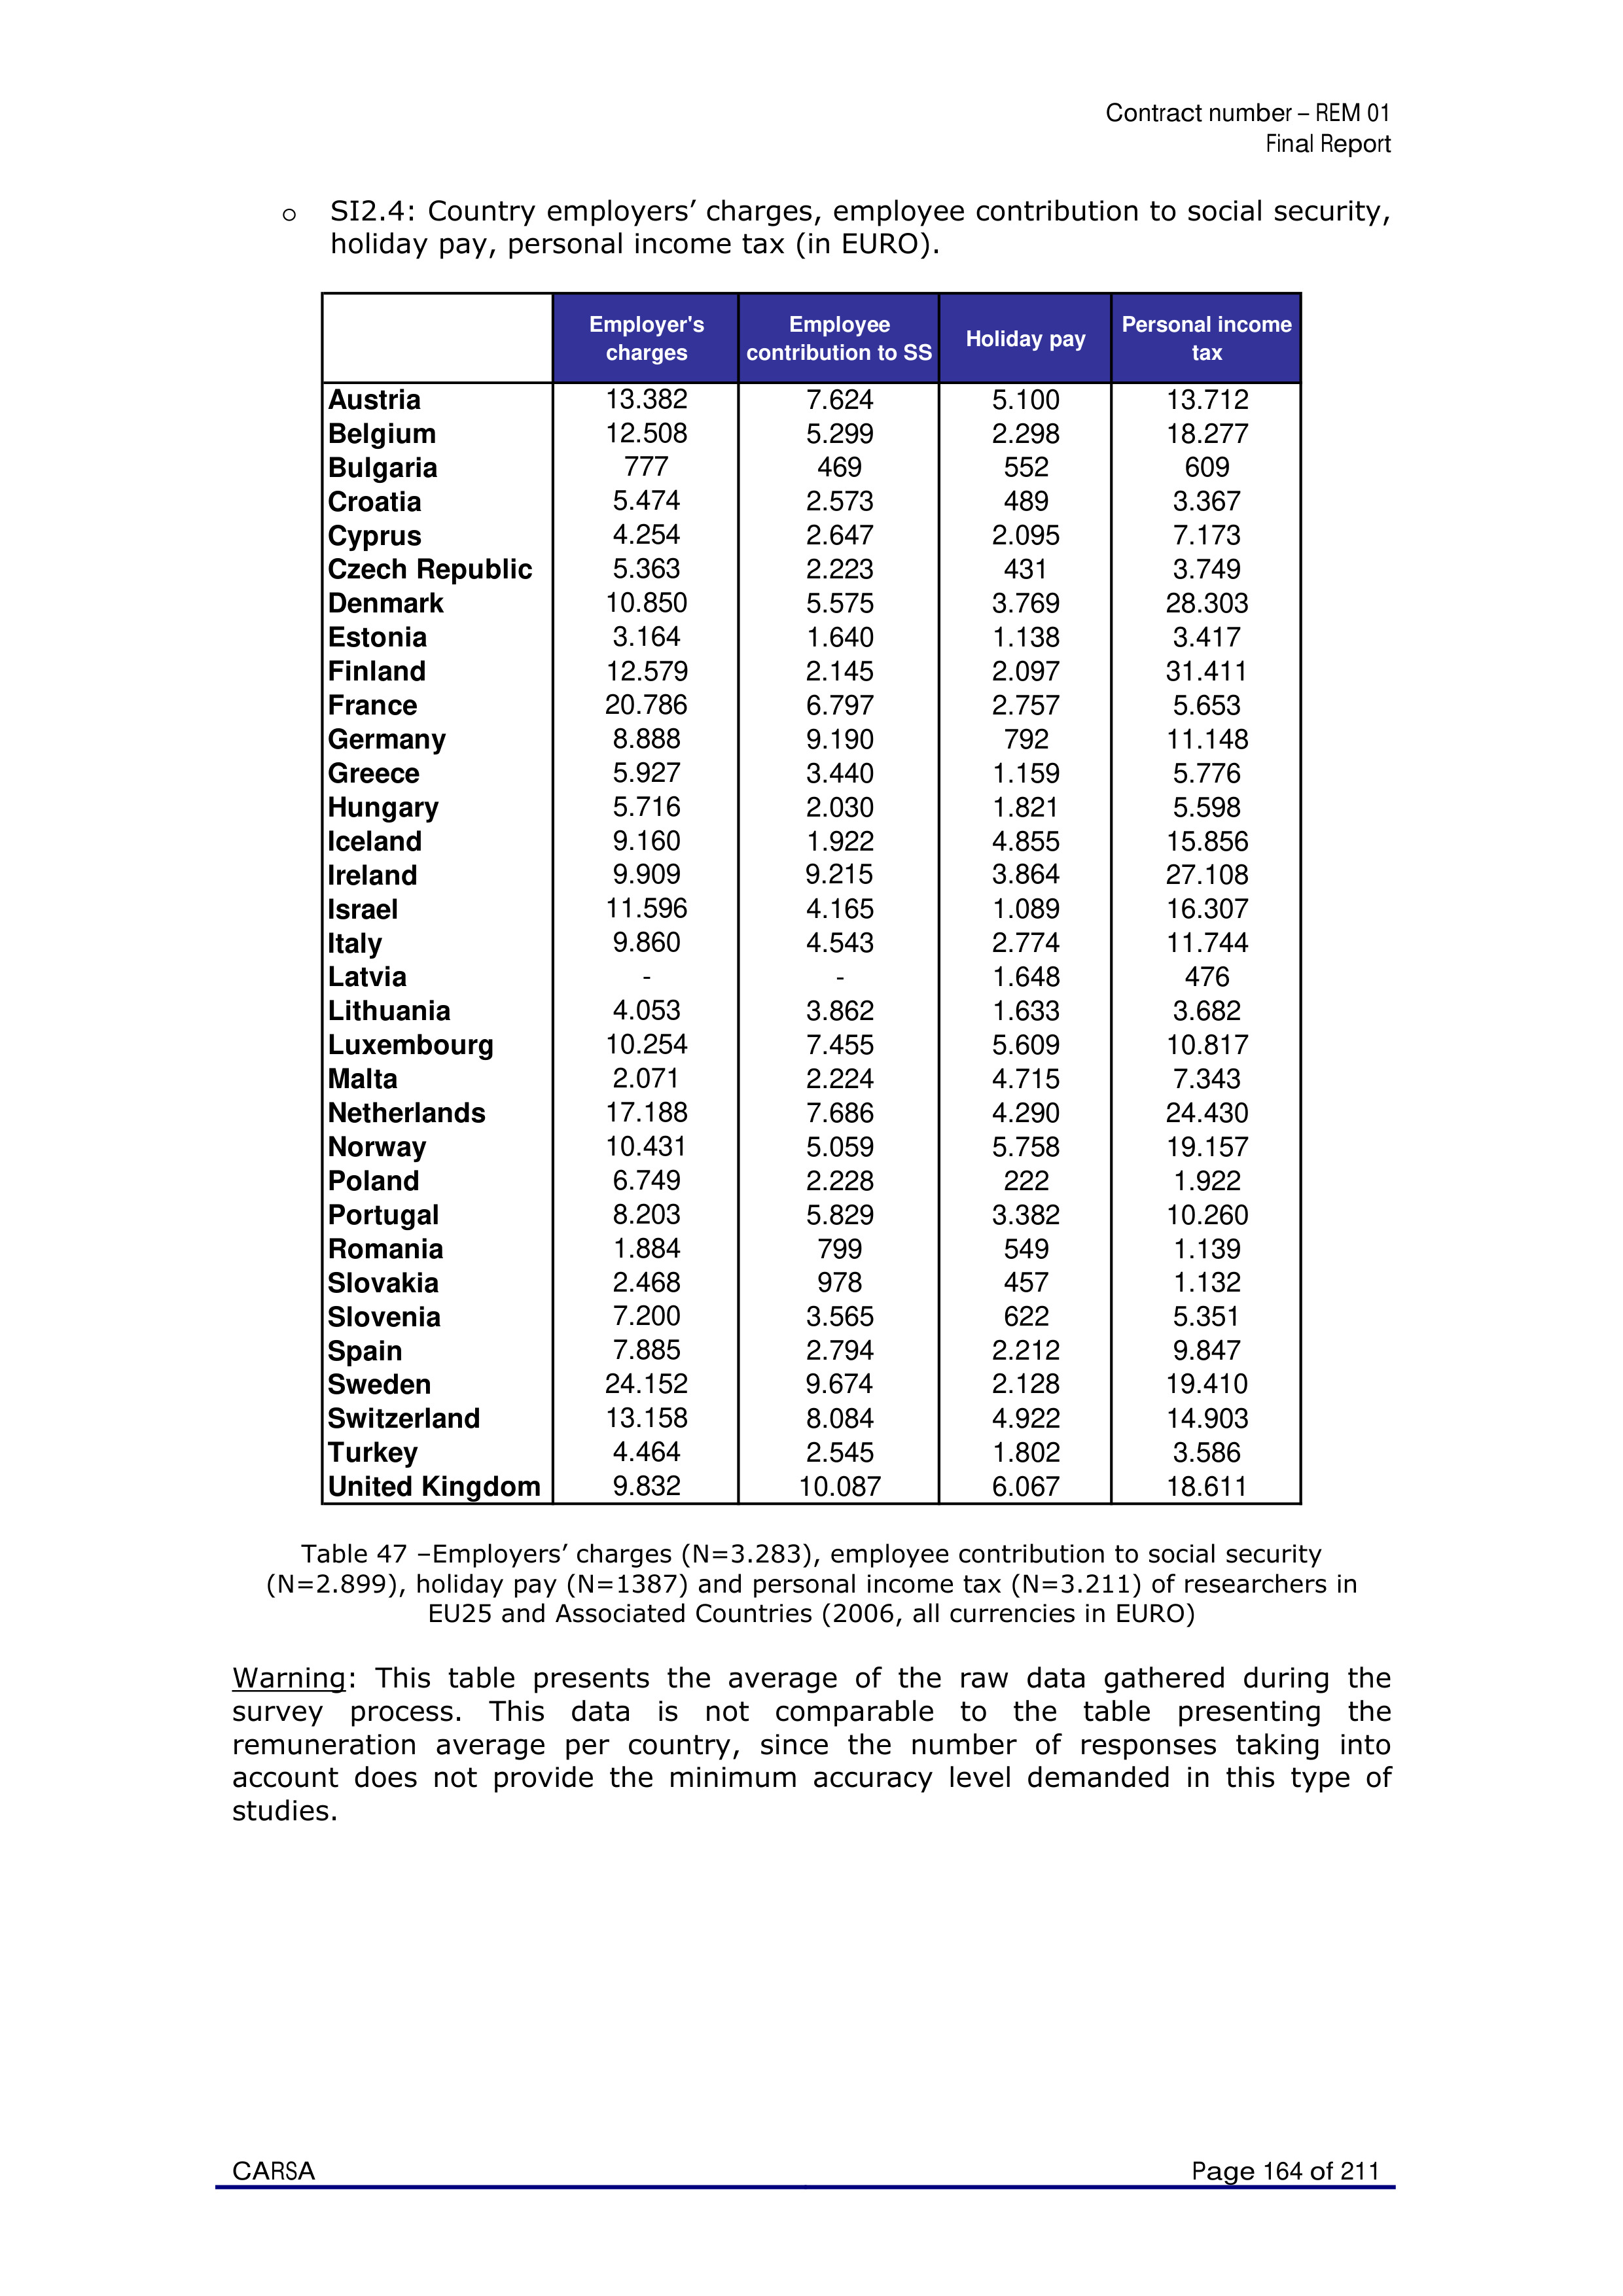table: (327, 309, 1293, 1504)
